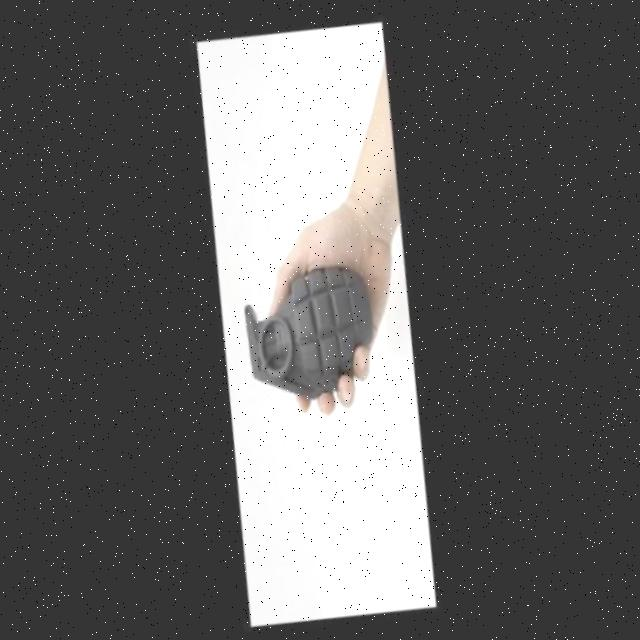grenade: (218, 238, 413, 431)
